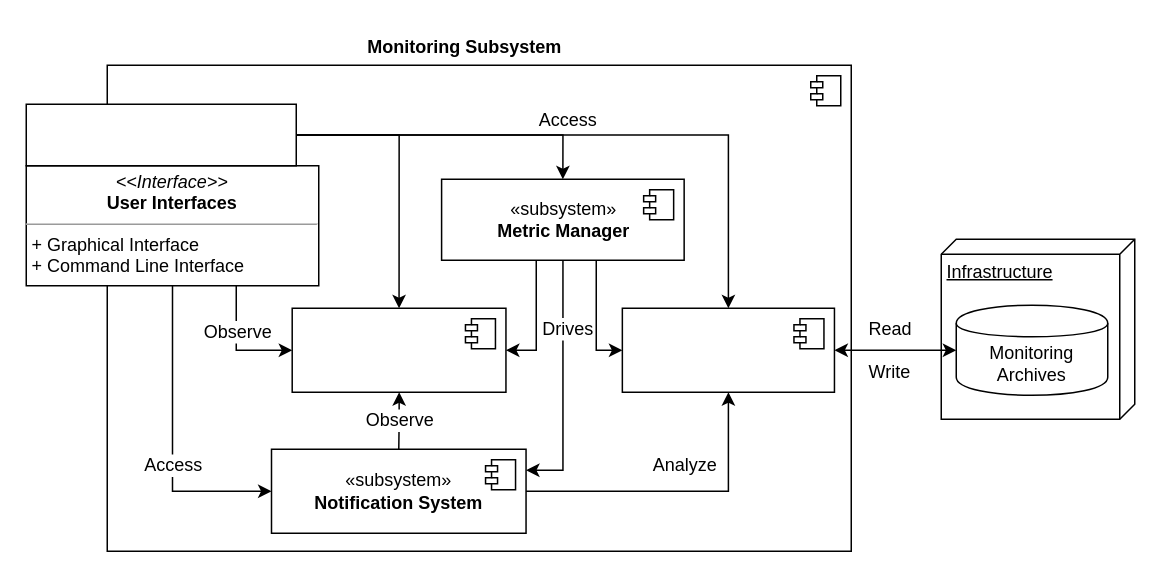
The diagram is 1161 pixels wide and 578 high, and some of its shapes have lost their labels. Each missing label, with the centre of its shape:
"<<Interface>> Monitoring interface" belongs at point 160,134.
"«subsystem» State Engine" belongs at point 398,349.
"«subsystem» Storage Engine" belongs at point 727,349.
